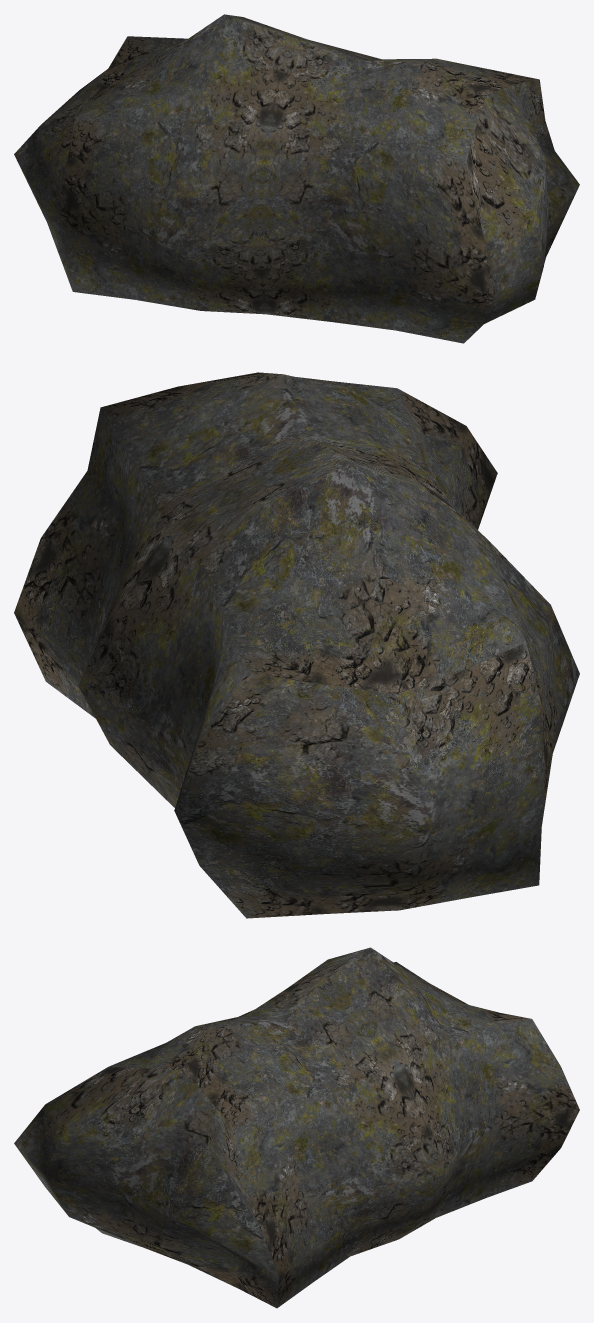
Rendered from Rock04.fbx.
3 renders of one model, top to bottom at view 1: azimuth 30°, elevation 25°; view 2: azimuth 150°, elevation 25°; view 3: azimuth 270°, elevation 25°, orthographic. The views are drawn at different scales.
Parts seen in each view (by area): view 1: Rock04; view 2: Rock04; view 3: Rock04.
Part boxes in pixels (x1,y1,x2,y2): Rock04: (14, 14, 579, 343); Rock04: (14, 372, 579, 918); Rock04: (14, 947, 579, 1308).
Size of the model in its own units: 96.3 by 53.47 by 114.
